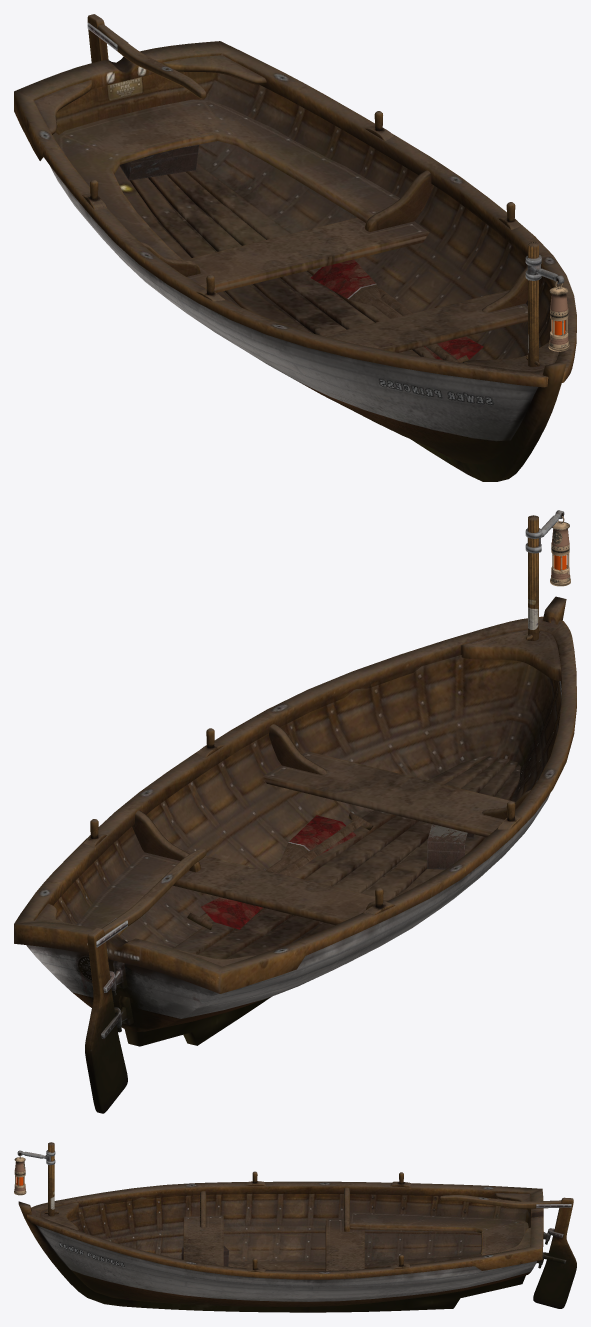
The model's file is light-boat.glb.
The picture shows the model from 3 angles, top to bottom: view 1: azimuth 30°, elevation 25°; view 2: azimuth 150°, elevation 25°; view 3: azimuth 270°, elevation 25°; orthographic projection. The views are drawn at different scales.
Visible parts, largest first — view 1: boatfoundation_low, trim_low, rearbench_low, bottomboards_low, benches_low, oar_low, braces_low, rearbraces_low, chest_low, tiller_low, pegs_low, lamppost_low (+3 smaller); view 2: boatfoundation_low, trim_low, benches_low, bottomboards_low, rudder_low, oar_low, rearbench_low, braces_low, bracefront_low, tiller_low, chest_low, pegs_low (+2 smaller); view 3: boatfoundation_low, trim_low, benches_low, rearbench_low, rudder_low, bottomboards_low, tiller_low, pegs_low, bracefront_low, rearbraces_low, braces_low, lamppost_low (+3 smaller).
Boxes of the visible parts, x1,y1,x2,y2 form: boatfoundation_low: (50,71,566,481); trim_low: (14,41,576,387); rearbench_low: (56,99,399,260); bottomboards_low: (114,163,479,452); benches_low: (184,217,527,352); oar_low: (311,259,483,362); braces_low: (140,170,527,312); rearbraces_low: (34,55,266,134); chest_low: (120,144,198,180); tiller_low: (98,24,206,98); pegs_low: (82,111,520,301); lamppost_low: (528,242,538,366); boatfoundation_low: (26,596,566,1046); trim_low: (14,616,576,993); benches_low: (173,751,514,925); bottomboards_low: (173,755,520,959); rudder_low: (85,927,127,1113); oar_low: (187,812,373,929); rearbench_low: (76,852,189,935); braces_low: (132,724,530,909); bracefront_low: (460,629,560,680); tiller_low: (102,848,206,934); chest_low: (427,824,473,869); pegs_low: (83,728,521,915); boatfoundation_low: (18,1194,536,1312); trim_low: (27,1181,543,1279); benches_low: (183,1215,364,1270); rearbench_low: (350,1212,528,1255); rudder_low: (533,1197,576,1308); bottomboards_low: (228,1254,481,1270); tiller_low: (439,1195,561,1208); pegs_low: (246,1171,411,1272); bracefront_low: (41,1202,78,1230); rearbraces_low: (494,1193,530,1252); braces_low: (200,1187,349,1231); lamppost_low: (48,1142,54,1216).
Bounding box in the file's own units: 0.7775 × 0.6558 × 2.
2 materials, 1 textured.
